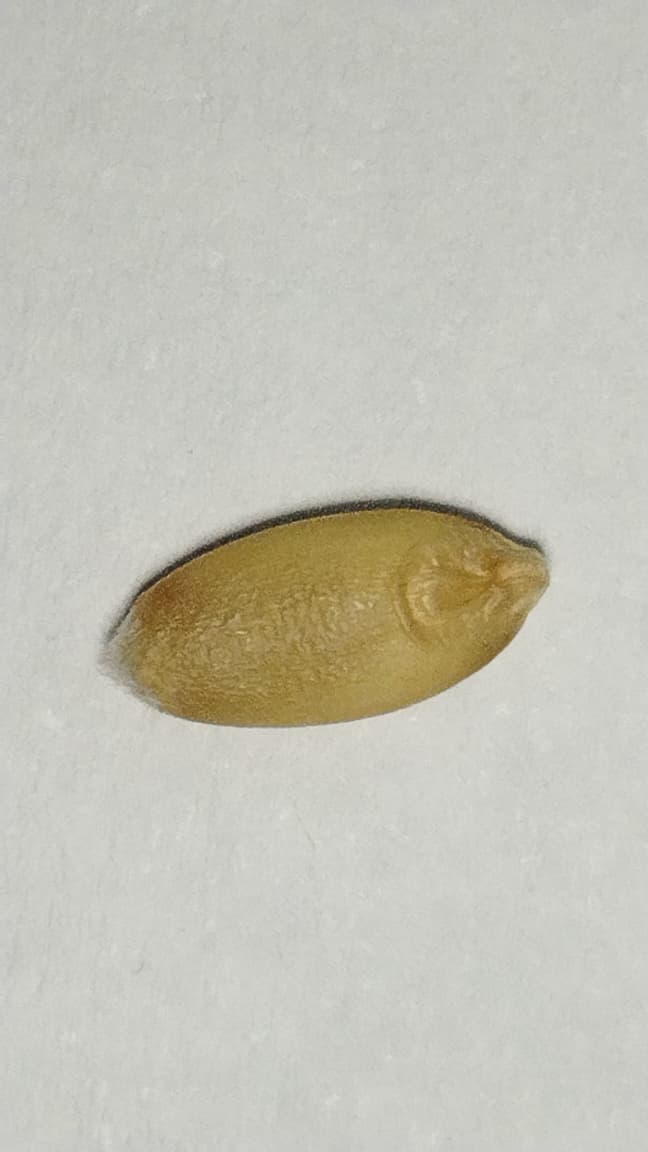healthy: (100, 500, 549, 727)
